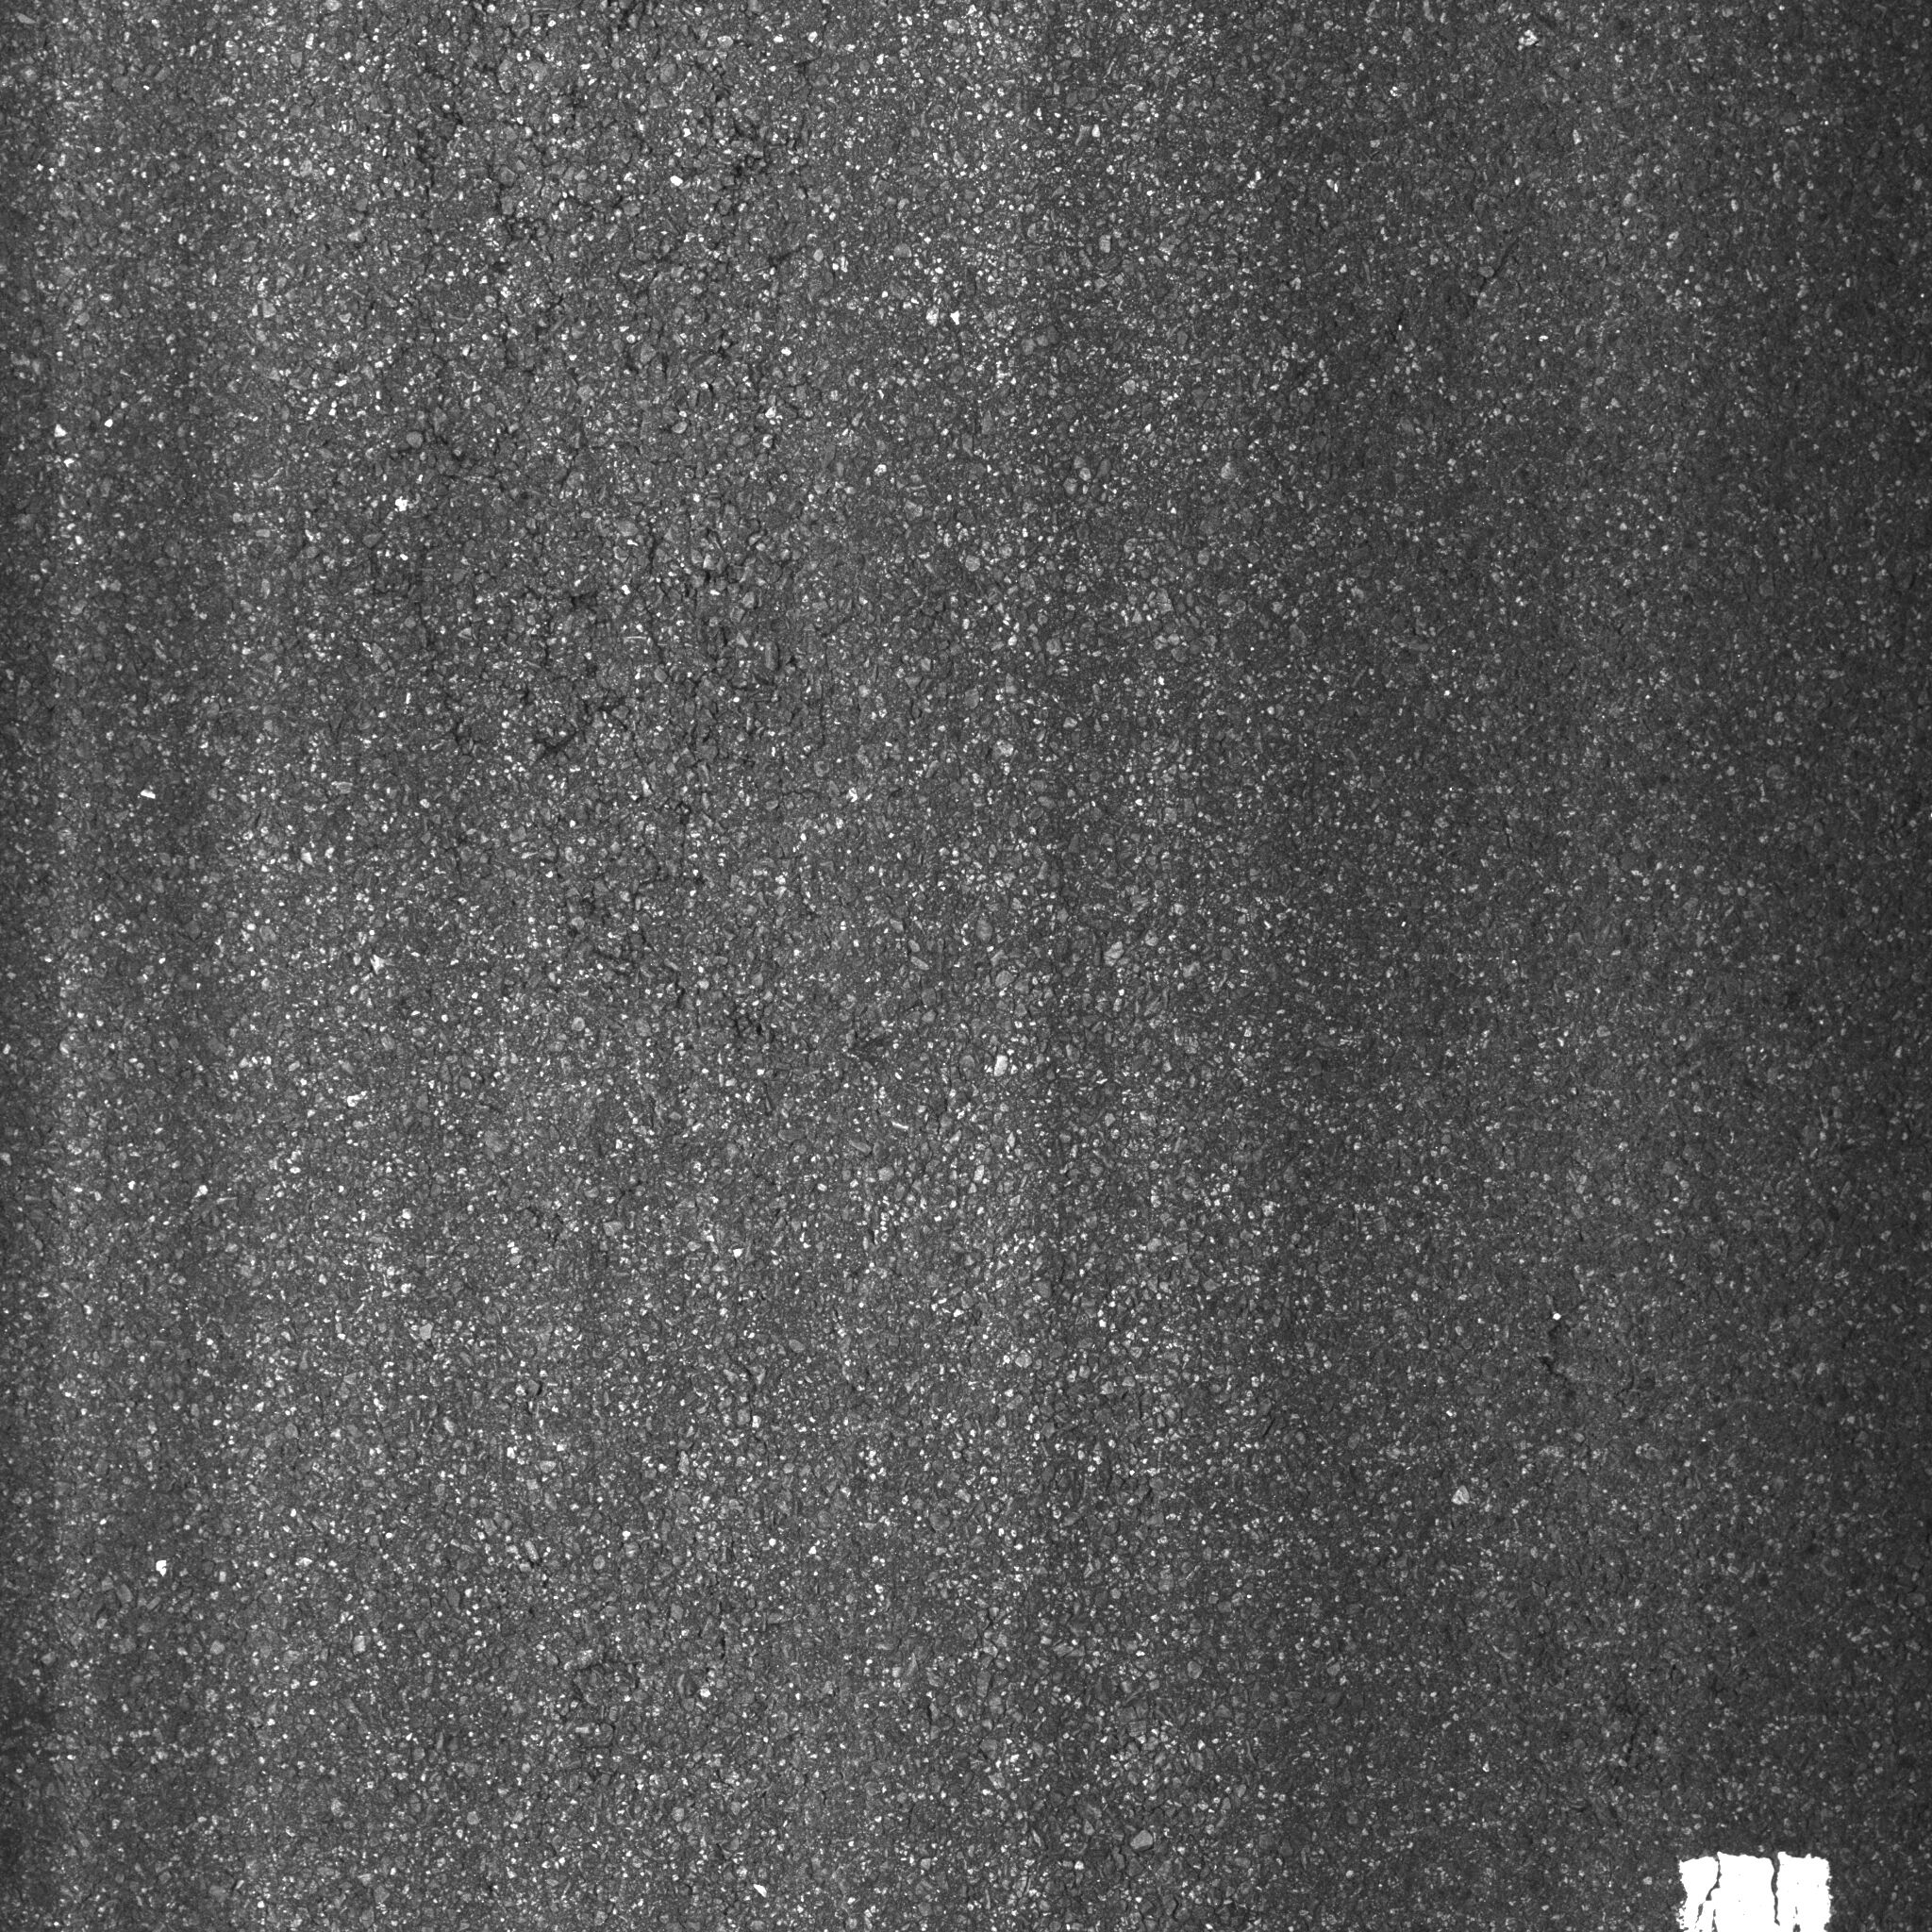alligator: (322, 4, 809, 830)
